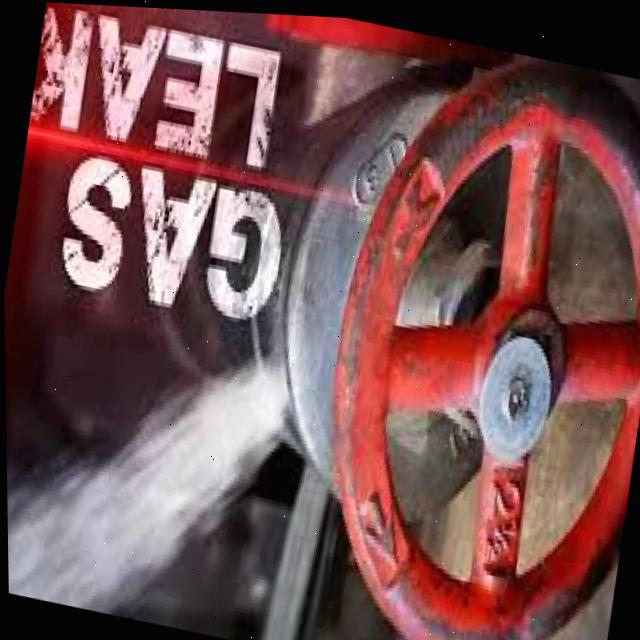corrosion: (103, 258, 384, 510)
